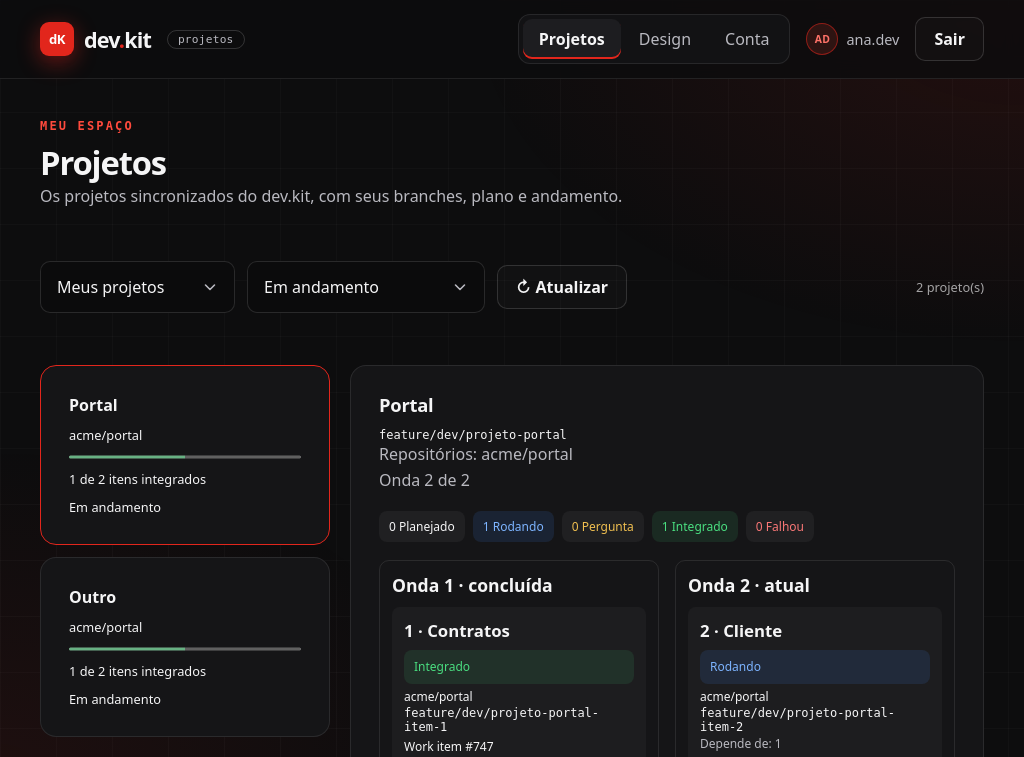
it: Projetos sincronizados › mostra dados, branches, ondas, andamento e conserva os filtros ao escolher outro projeto
Expected: the text "feature/dev/projeto-portal" is shown, [379,428,567,442]
Expected: the text "feature/dev/projeto-portal-item-2" is shown, [700,706,895,734]
Click the button "Outro acme/portal 1 de 2 itens integrados Em andamento".
click(185, 647)  # box [40,557,330,737]
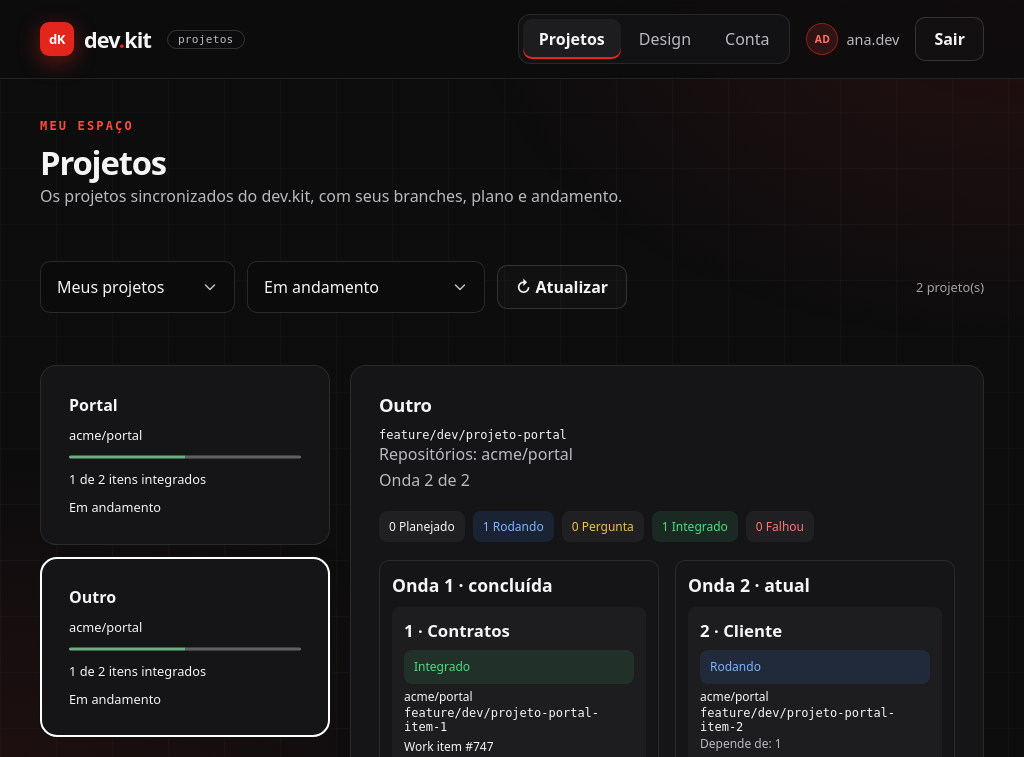
Expected: the dropdown named "Nível de compartilhamento" shows "Meus projetos", [40,261,235,313]
Now the heading "Outro" is shown, box [379,392,432,417]
